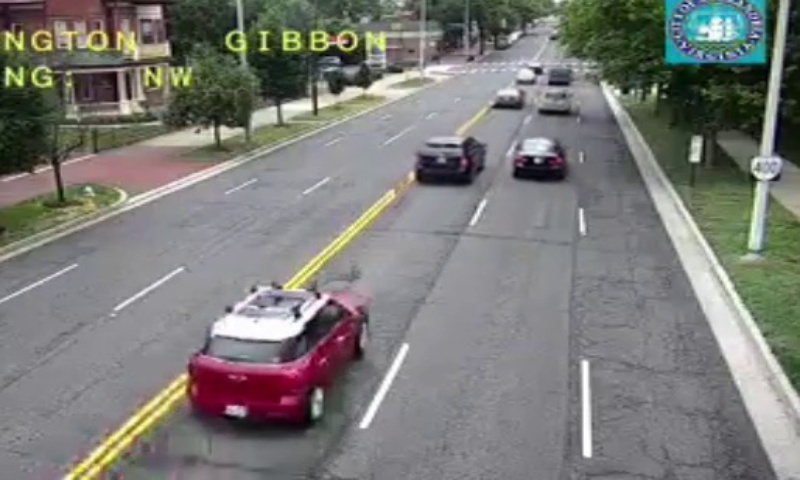car: (186, 286, 368, 425), (415, 135, 484, 183), (513, 138, 563, 174), (539, 90, 570, 112), (493, 87, 522, 108)
